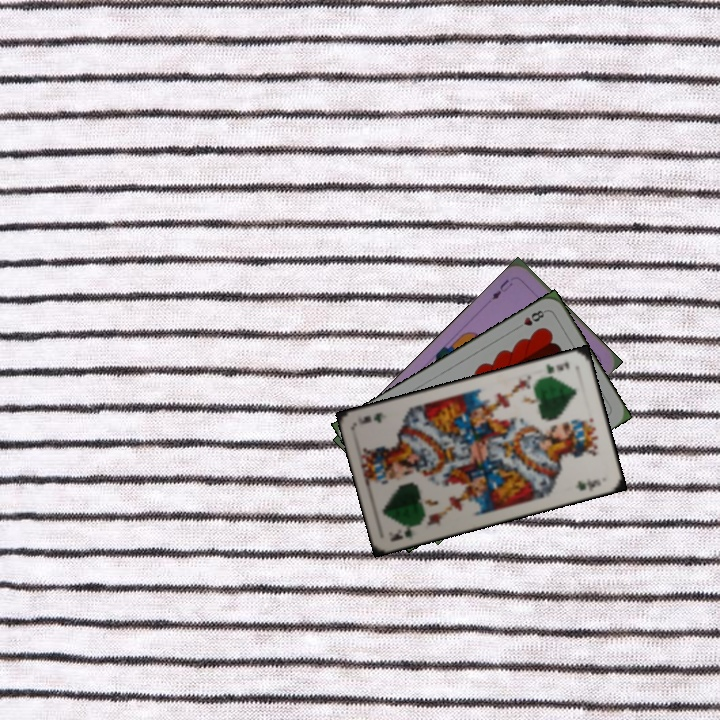EU: (488, 275, 515, 302)
GK: (542, 357, 572, 376), (386, 523, 413, 544)
H8: (512, 306, 549, 332)
